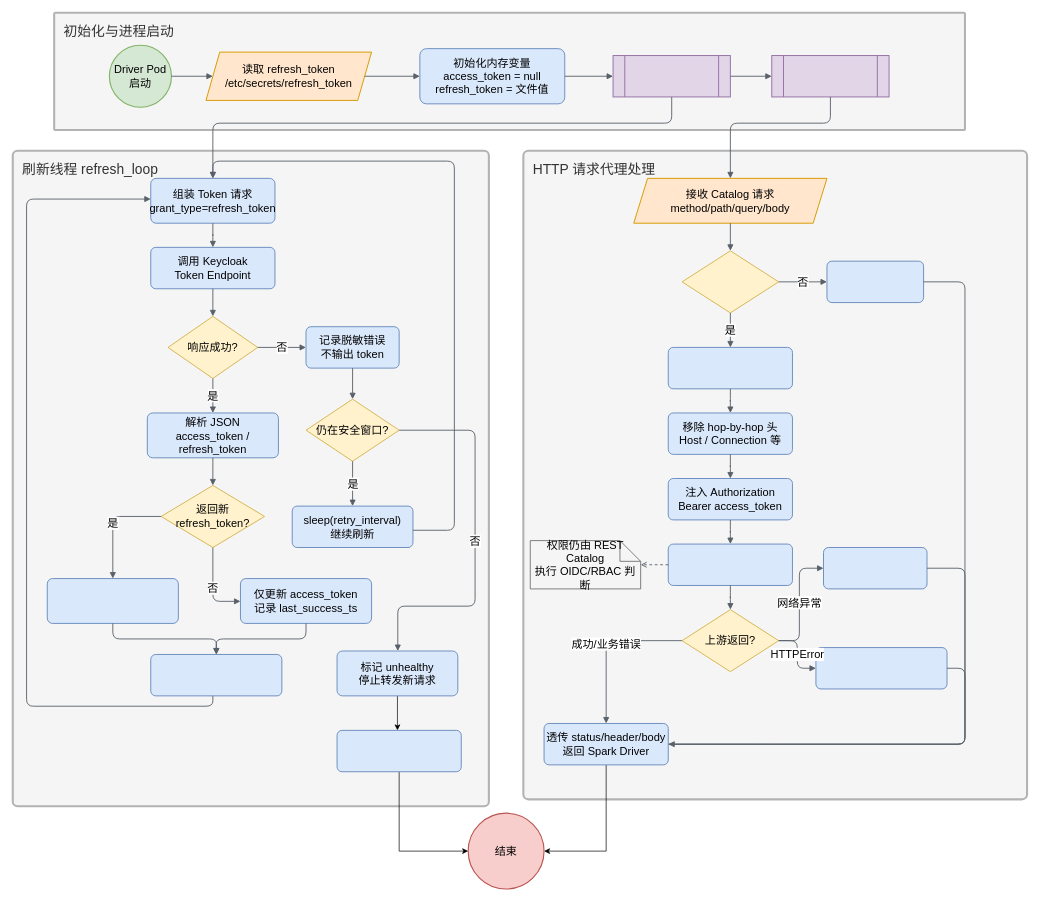
The diagram is 1040 pixels wide and 902 high, and some of its shapes have lost their labels. Each missing label, with the centre of its shape:
"access_token 可用?" goes at [730,281].
"sleep(refresh_interval) 短于 access_token TTL" goes at [216,675].
"原子更新内存令牌 覆盖旧 refresh_token" goes at [112,601].
"启动 daemon 刷新线程" goes at [671,76].
"启动 HTTPServer 127.0.0.1:8080" goes at [830,76].
"复制请求头 读取请求体" goes at [730,368].
"超过安全窗口后 拒绝 Catalog 请求" goes at [398,751].
"转发到真实 REST Catalog" goes at [730,564].
"返回 502/500 代理或网络异常" goes at [875,568].
"返回 503 Token not ready" goes at [875,281].
"透传 HTTPError 保留业务状态码" goes at [881,668].
